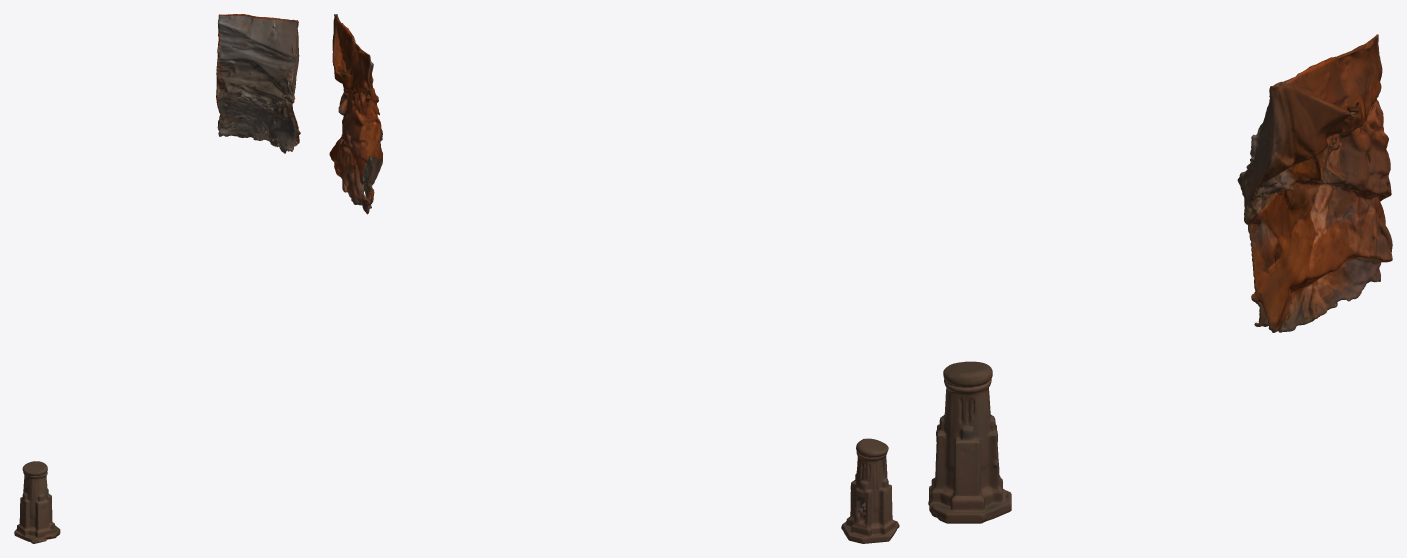
File: badami_caves.glb
3 renders of one model, left to right at view 1: azimuth 30°, elevation 25°; view 2: azimuth 150°, elevation 25°; view 3: azimuth 270°, elevation 25°, orthographic. The views are drawn at different scales.
Parts seen in each view (by area): view 1: tripo_node_3c4e079b-9bdb-419a-95e0-046ab5152eb9; view 2: tripo_node_3c4e079b-9bdb-419a-95e0-046ab5152eb9; view 3: tripo_node_3c4e079b-9bdb-419a-95e0-046ab5152eb9.
Boxes of the visible parts, bbox=[...] form: tripo_node_3c4e079b-9bdb-419a-95e0-046ab5152eb9: bbox=[14, 14, 300, 543]; tripo_node_3c4e079b-9bdb-419a-95e0-046ab5152eb9: bbox=[329, 14, 899, 543]; tripo_node_3c4e079b-9bdb-419a-95e0-046ab5152eb9: bbox=[928, 34, 1392, 523].
Bounding box in the file's own units: 0.997 × 1 × 0.5599.
1 material, 1 textured.
